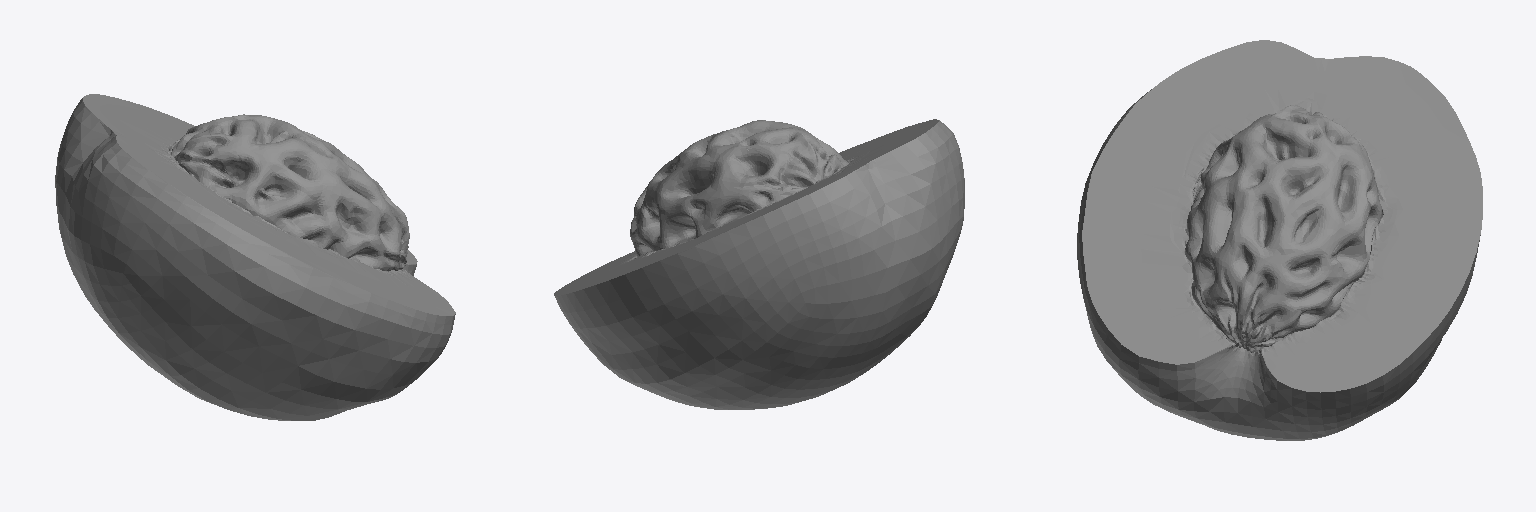
The model's file is half_yellowpeach.obj.
The picture shows the model from 3 angles: view 1: azimuth 30°, elevation 25°; view 2: azimuth 150°, elevation 25°; view 3: azimuth 270°, elevation 25°; orthographic projection.
Parts seen in each view (by area): view 1: AM130_004_003; view 2: AM130_004_003; view 3: AM130_004_003.
Boxes of the visible parts, x1=… form: AM130_004_003: x1=55, y1=94, x2=455, y2=420; AM130_004_003: x1=554, y1=119, x2=964, y2=409; AM130_004_003: x1=1077, y1=40, x2=1482, y2=440.
Size of the model in its own units: 8.25 by 6.68 by 8.37.